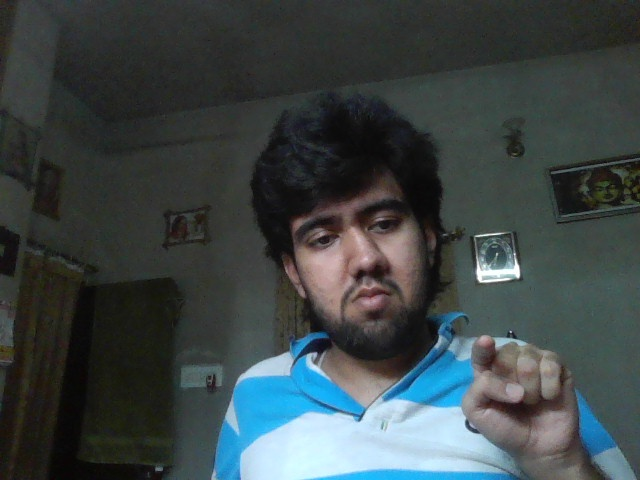You: (462, 335, 578, 456)
